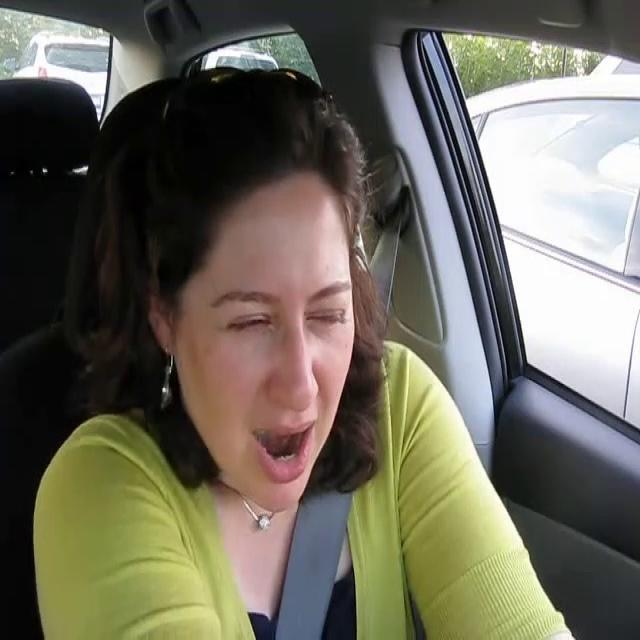open-mouth: (249, 420, 316, 476)
